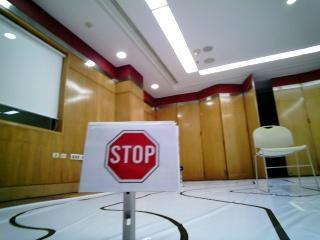stop: (88, 121, 177, 193)
